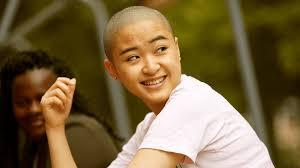person: (94, 0, 198, 120)
